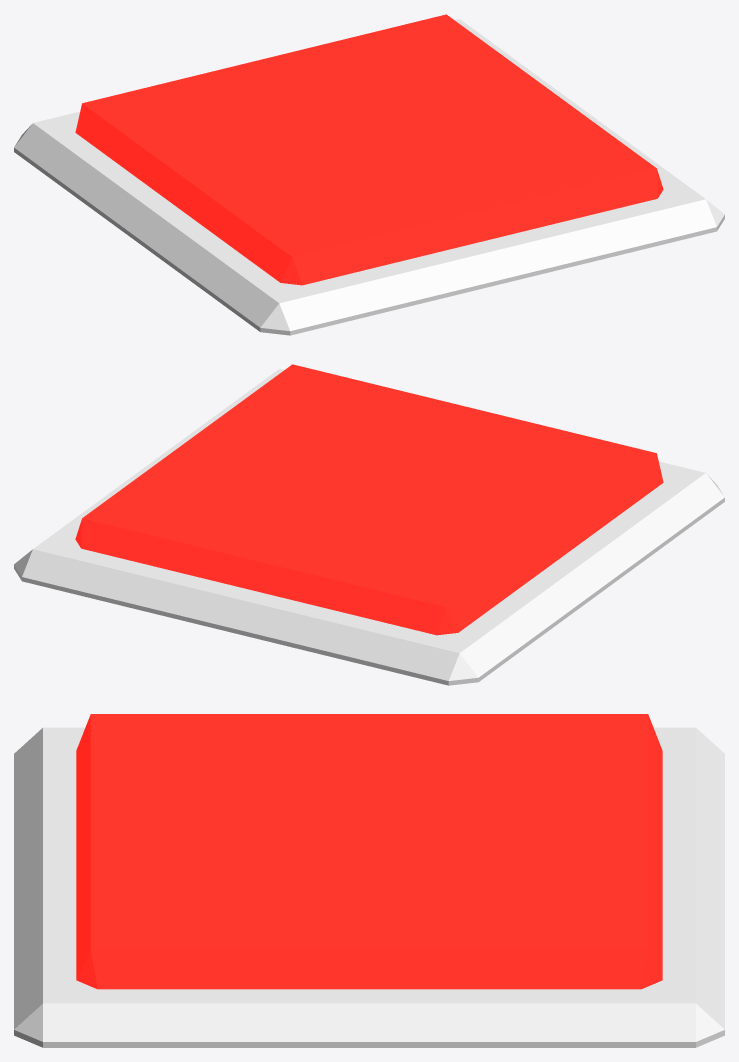
Rendered from Button.gltf.
3 renders of one model, top to bottom at view 1: azimuth 30°, elevation 25°; view 2: azimuth 150°, elevation 25°; view 3: azimuth 270°, elevation 25°, orthographic. The views are drawn at different scales.
Visible parts, largest first — view 1: Button, Base; view 2: Button, Base; view 3: Button, Base.
Boxes of the visible parts, box(x1,y1,x2,y2) form: Button: box(75, 14, 663, 285); Base: box(14, 19, 724, 335); Button: box(75, 364, 663, 635); Base: box(14, 369, 724, 685); Button: box(76, 714, 662, 989); Base: box(14, 727, 724, 1047).
Bounding box in the file's own units: 2.62 × 0.2676 × 2.62.
